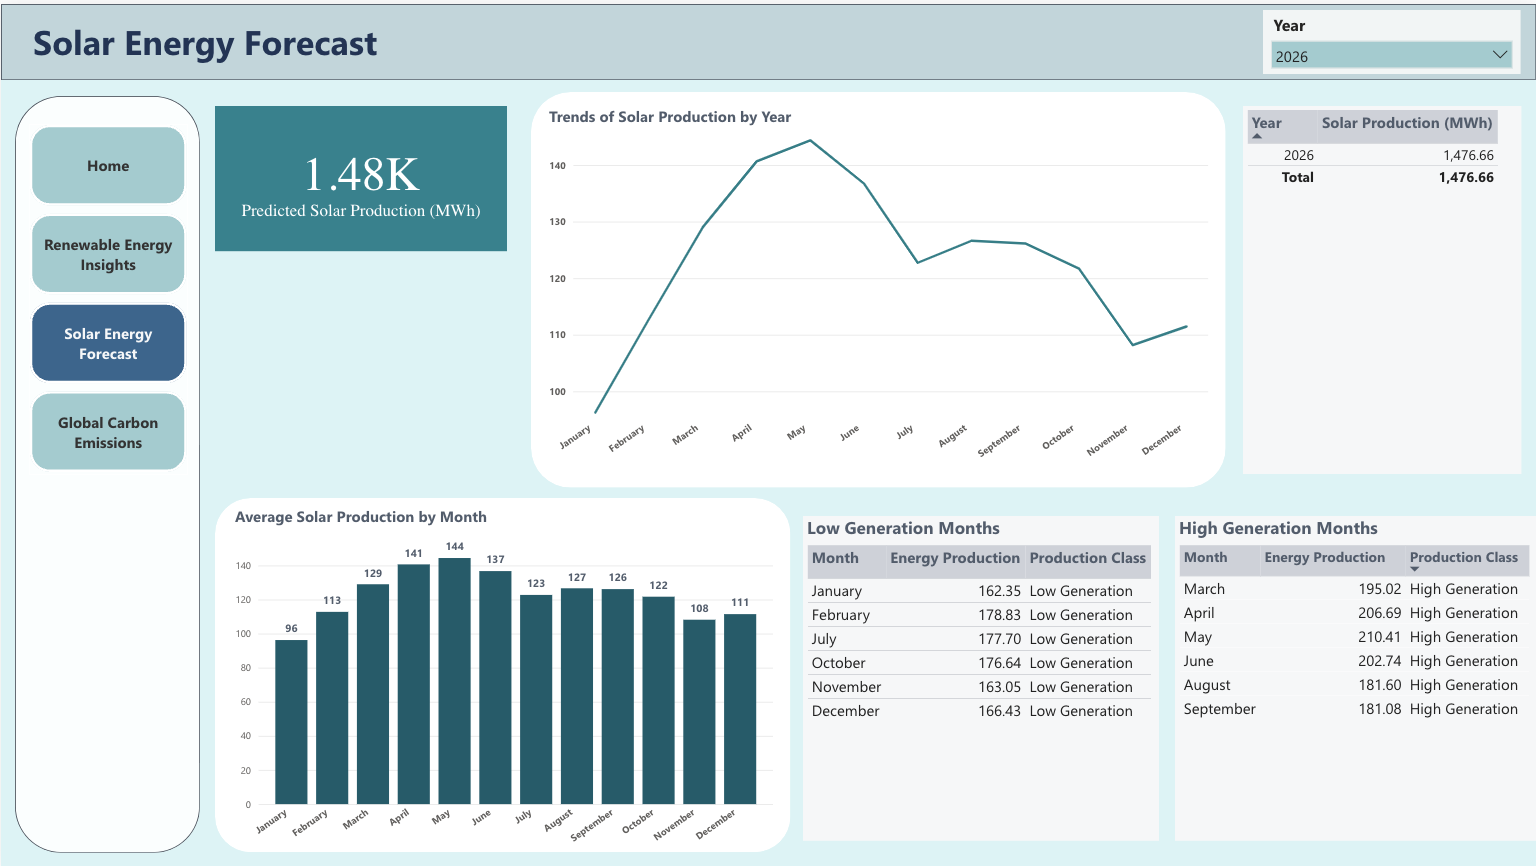

The dashboard page shown, as its layout file describes it:
{"tool":"powerbi","page":{"name":"Solar Energy Forecast","canvas":[1920,1080],"ordinal":2},"visuals":[{"type":"shape","box":[663.1,110.2,868.3,494.6],"z":0},{"type":"shape","box":[267.8,617.8,719.3,442.8],"z":1000},{"type":"columnChart","title":"Average Solar Production by Month","fields":{"Y":["Avg(forecast_15_years.Predicted Solar Production (GWh))"],"Category":["forecast_15_years.Month"]},"box":[287.3,626.4,682.6,440.6],"z":2000},{"type":"card","title":"Progress towards SDG 7.2 by 2040","fields":{"Values":["Sum(forecast_15_years.Predicted Solar Production (MWh))"]},"box":[267.8,127.4,365,181.4],"z":3000},{"type":"tableEx","fields":{"Values":["forecast_15_years.Year","forecast_15_years.Predicted Solar Production (GWh)"]},"box":[1553,127.4,347.8,460.1],"z":4000},{"type":"shape","box":[0,0,1919,95.2],"z":5000},{"type":"slicer","fields":{"Values":["forecast_15_years.Date.Variation.Date Hierarchy.Year"]},"box":[1576.8,8.6,321.8,79.9],"z":6000},{"type":"shape","box":[17.3,114.5,231.1,946.1],"z":7000},{"type":"tableEx","title":"Low Generation Months","fields":{"Values":["forecast_15_years.Month","_Measures.MonthlyAvgSolarProduction","forecast_15_years.SolarProductionClass"]},"box":[1002.2,639.4,445,406.1],"z":8000},{"type":"tableEx","title":"High Generation Months","fields":{"Values":["forecast_15_years.Month","_Measures.MonthlyAvgSolarProduction","forecast_15_years.SolarProductionClass"]},"box":[1468.5,639.4,451.4,406.1],"z":9000},{"type":"lineChart","title":"Trends of Solar Production by Year","fields":{"Y":["Sum(forecast_15_years.Predicted Solar Production (GWh))"],"Category":["forecast_15_years.Date.Variation.Date Hierarchy.Year","forecast_15_years.Date.Variation.Date Hierarchy.Quarter","forecast_15_years.Date.Variation.Date Hierarchy.Month"]},"box":[680.4,127.4,833.8,460.1],"z":10000},{"type":"pageNavigator","box":[34.6,149,198.7,438.5],"z":11000},{"type":"textbox","box":[35.7,11.9,595.2,83.3],"z":12000}]}

Visuals, with their boxes in screenshot pixels (x1, y1, x2, y2), scaled from the page's 1920x1080 canvas onto the 1536x866 screenshot:
shape: rect(530, 88, 1225, 485)
shape: rect(214, 495, 790, 850)
"Average Solar Production by Month" columnChart: rect(230, 502, 776, 856)
"Progress towards SDG 7.2 by 2040" card: rect(214, 102, 506, 248)
tableEx - forecast_15_years.Year x forecast_15_years.Predicted Solar Production (GWh): rect(1242, 102, 1521, 471)
shape: rect(0, 0, 1535, 76)
slicer - forecast_15_years.Date.Variation.Date Hierarchy.Year: rect(1261, 7, 1519, 71)
shape: rect(14, 92, 199, 850)
"Low Generation Months" tableEx: rect(802, 513, 1158, 838)
"High Generation Months" tableEx: rect(1175, 513, 1535, 838)
"Trends of Solar Production by Year" lineChart: rect(544, 102, 1211, 471)
pageNavigator: rect(28, 119, 187, 471)
textbox: rect(29, 10, 505, 76)
